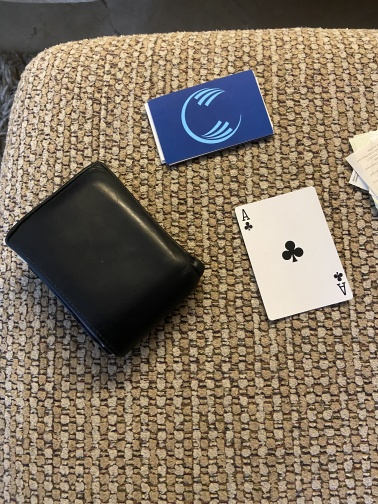ace: (234, 185, 354, 322)
